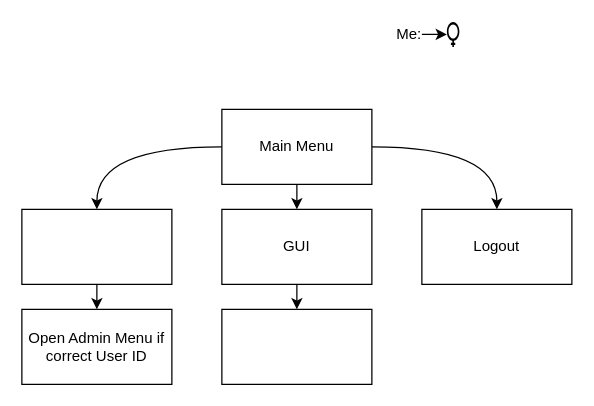
The diagram is 594 pixels wide and 406 high, and some of its shapes have lost their labels. The centre of each missing label's shape, as x and y in pixels:
Only Show Access to Admin menu if correct user ID: the point at 296,346
Open Menus: the point at 96,246
